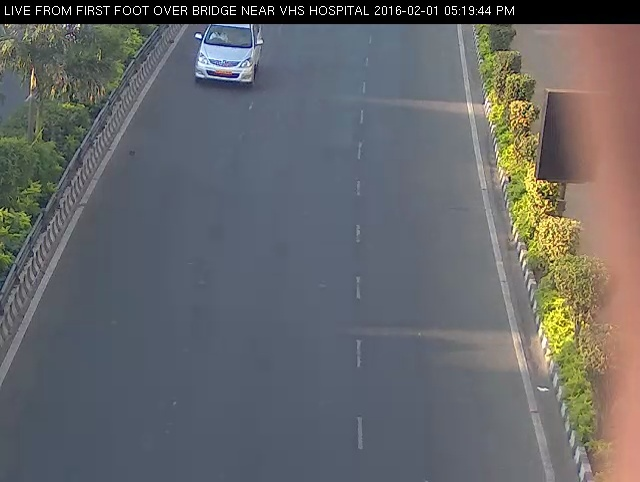Car: (182, 18, 276, 95)
